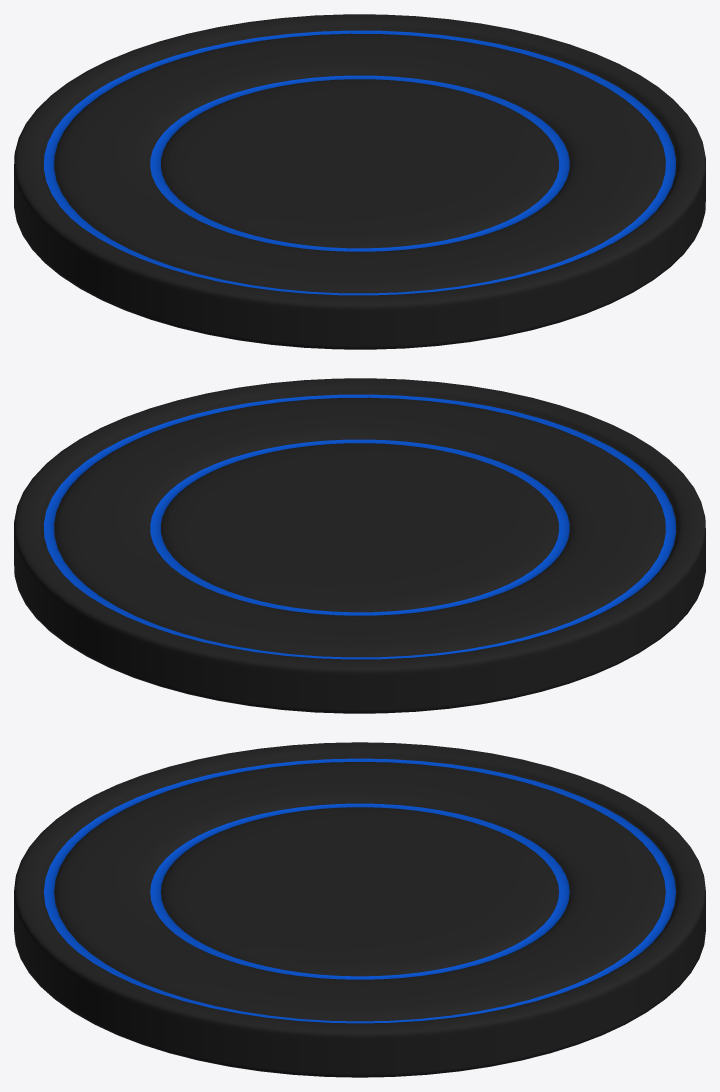
File: EasyTouch.fbx
3 renders of one model, top to bottom at view 1: azimuth 30°, elevation 25°; view 2: azimuth 150°, elevation 25°; view 3: azimuth 270°, elevation 25°, orthographic.
Parts seen in each view (by area): view 1: EasyTouch; view 2: EasyTouch; view 3: EasyTouch.
Part boxes in pixels (box(x1,y1,x2,y2)): EasyTouch: box(14, 14, 705, 349); EasyTouch: box(14, 378, 705, 713); EasyTouch: box(14, 742, 705, 1077).
Bounding box in the file's own units: 1 × 0.08 × 1.
